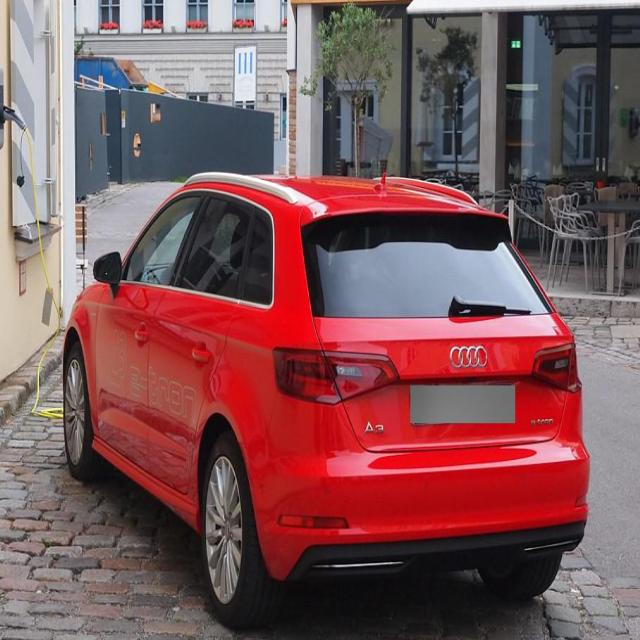back_glass: (302, 208, 555, 315)
back_left_side_light: (270, 342, 402, 407)
back_right_side_light: (532, 340, 583, 394)
door: (146, 209, 261, 477)
front_left_side_door: (93, 184, 209, 480)
front_left_side_mirror: (91, 250, 122, 290)
rear_bumper: (244, 386, 590, 583)
wheel: (203, 434, 277, 626), (63, 340, 96, 476)
